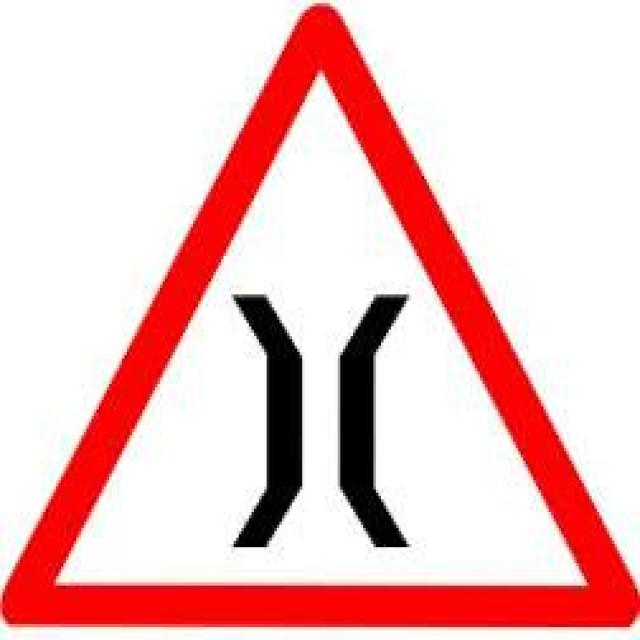Narrow_Bridge: (5, 3, 640, 621)
